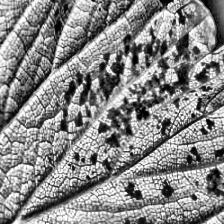Angular Leafspot: (36, 0, 224, 224)
